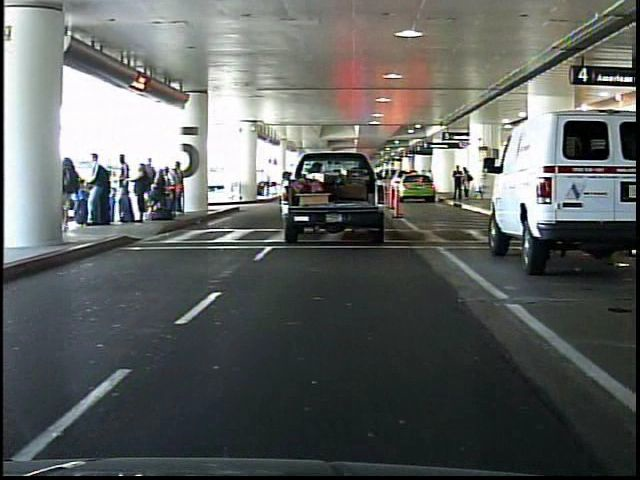person: (462, 165, 475, 203), (450, 165, 463, 202)
